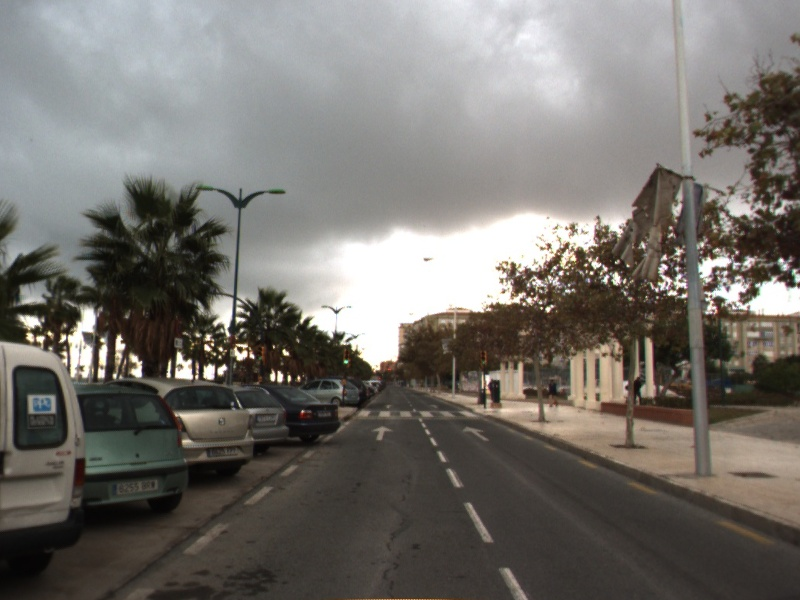STRAIGHT: (461, 425, 491, 442), (370, 424, 395, 442)
